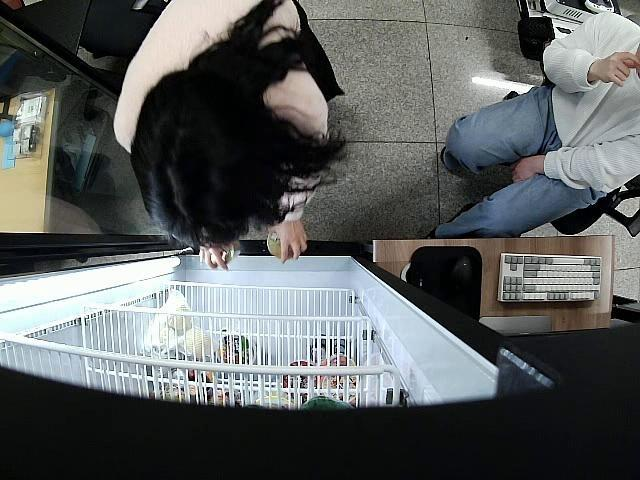04_chapagetti_S: (264, 226, 300, 264), (211, 240, 245, 266)
